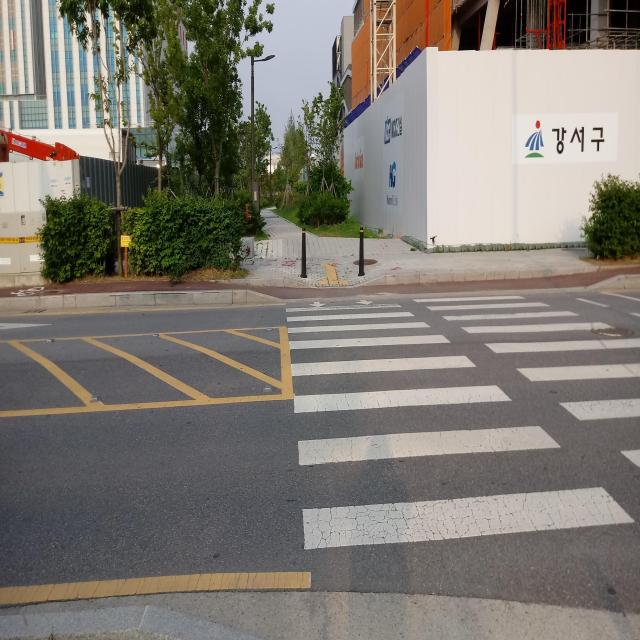횡단보도: (282, 289, 640, 555)
